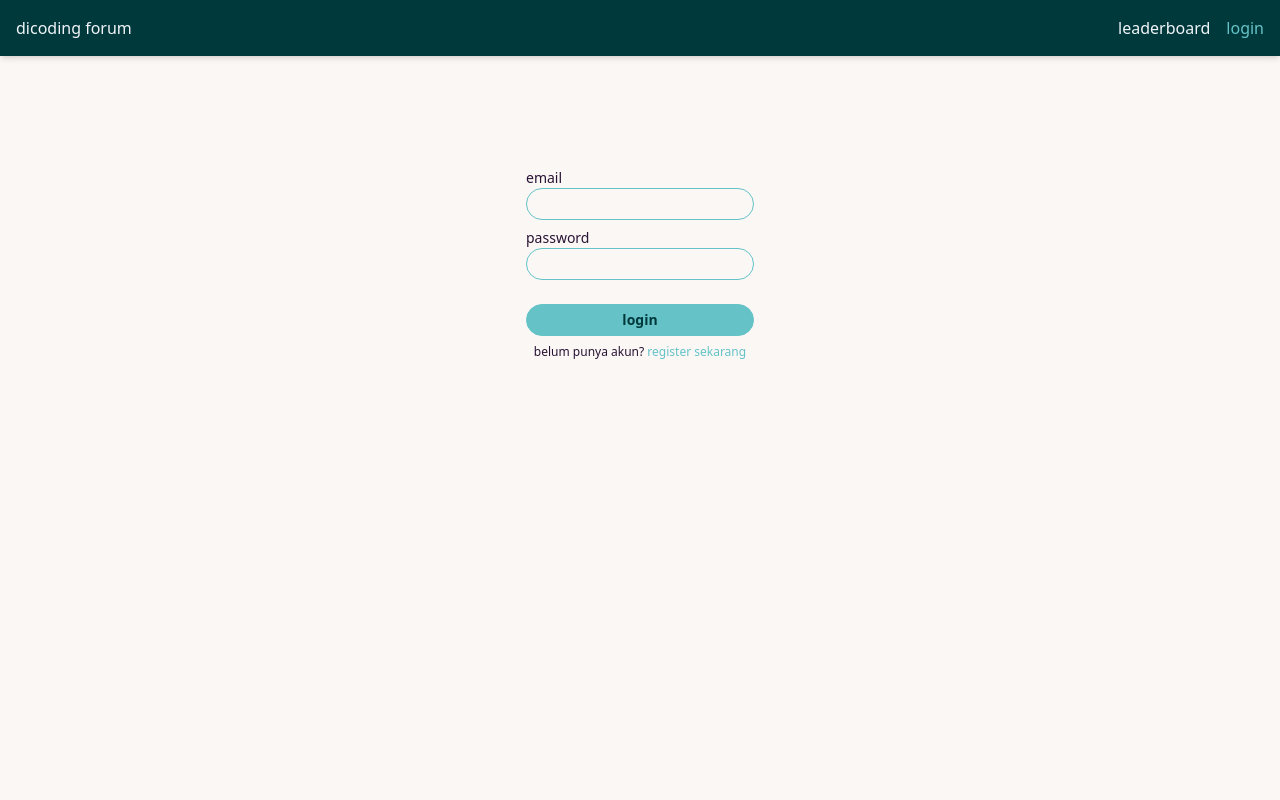
login spec › should go to home when login is success
Step 1. Type "test@test.com" into the field named "email" → [640, 204], box [526, 188, 754, 220]
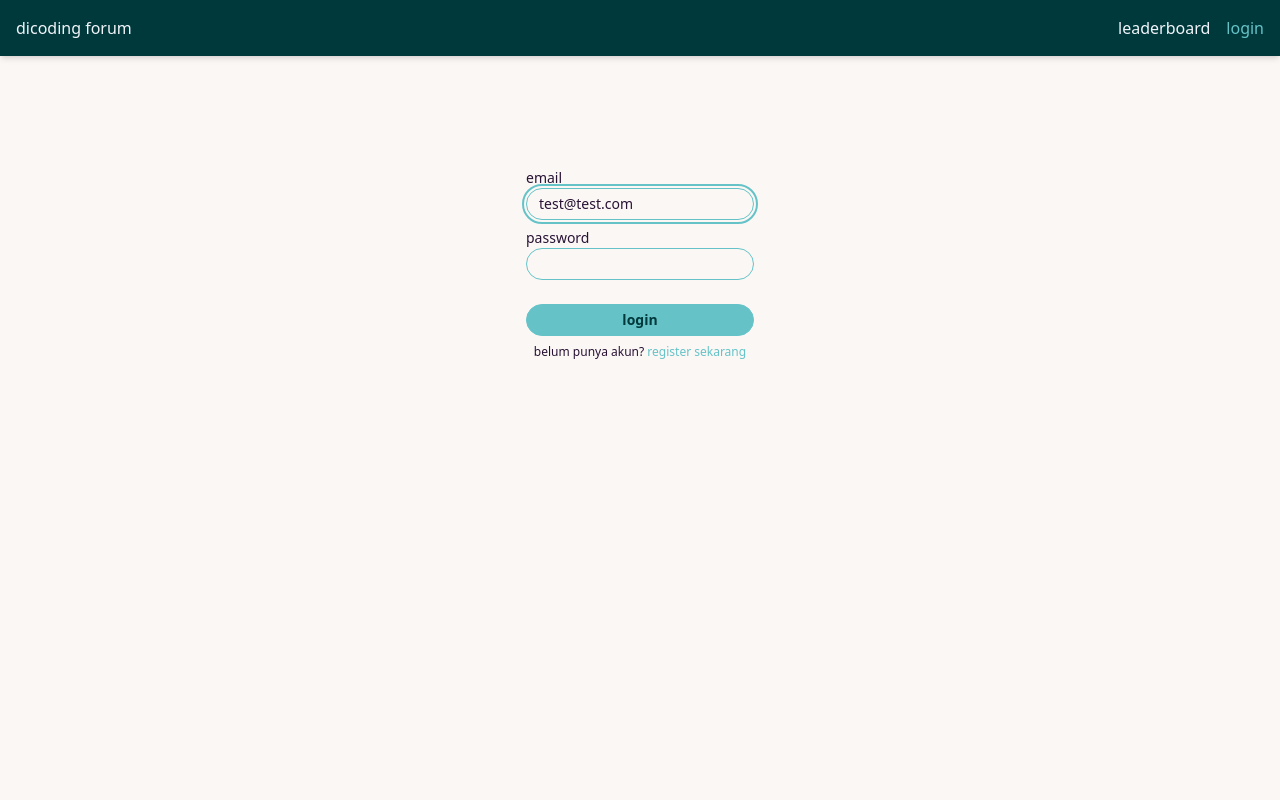
Step 2. Type "passwordtest" into the password field named "password" → [640, 264], box [526, 248, 754, 280]
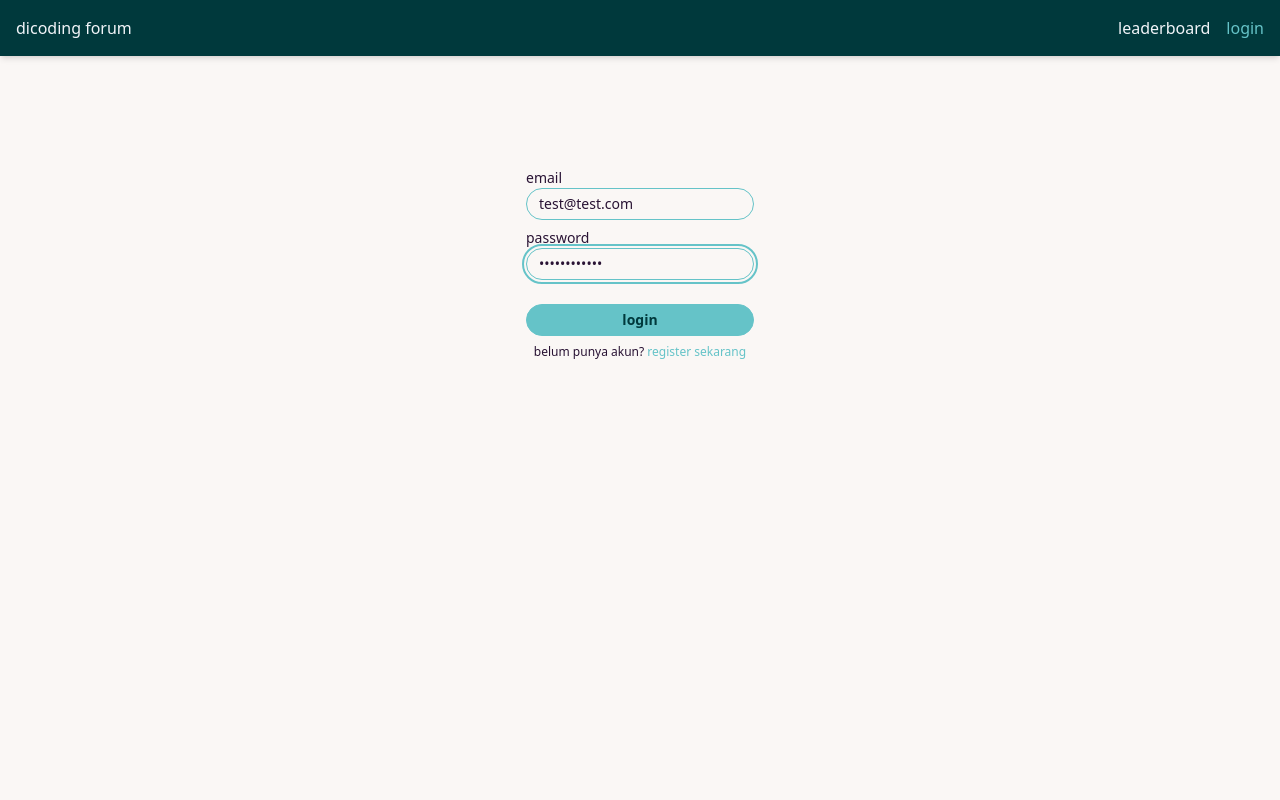
Step 3. Click the button "login" → [640, 320], box [526, 304, 754, 336]
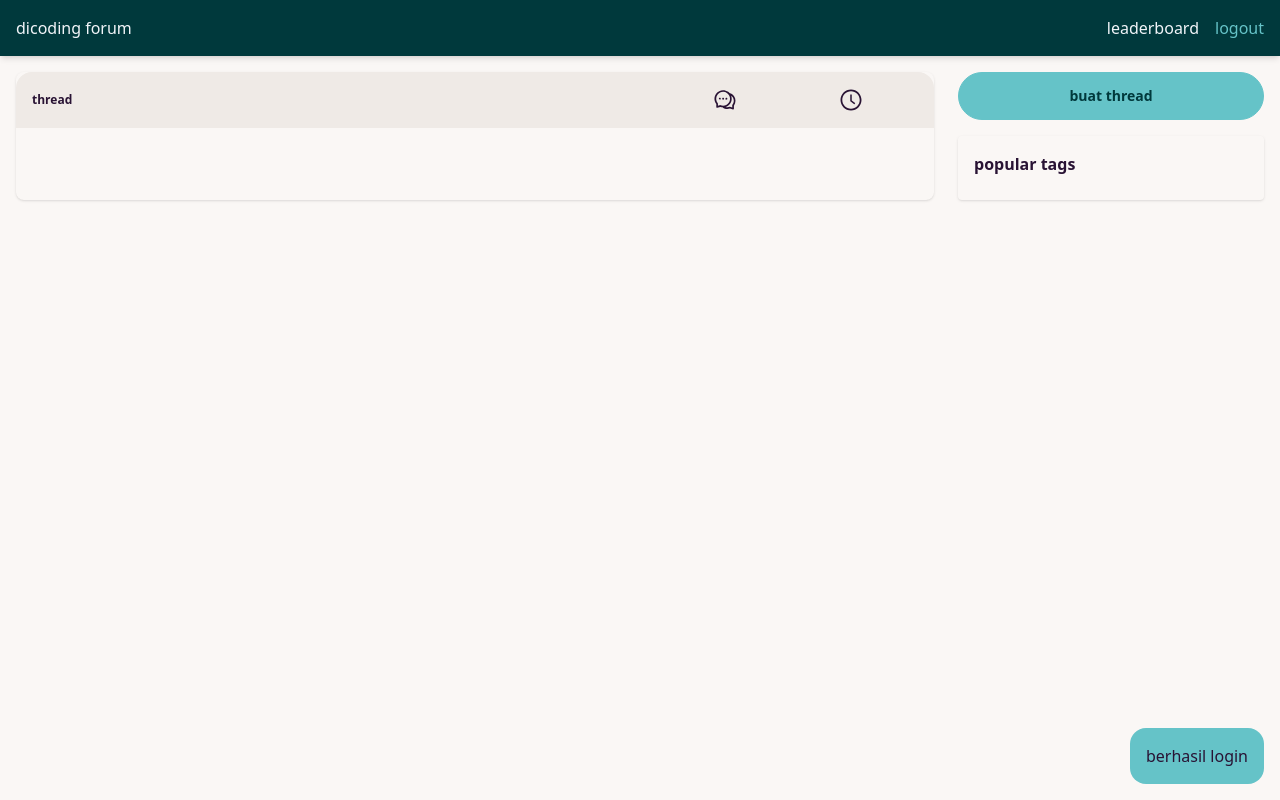
Check: the button "logout" is shown, box [1215, 16, 1264, 40]
Check: the link "buat thread" is shown, box [958, 72, 1264, 120]
